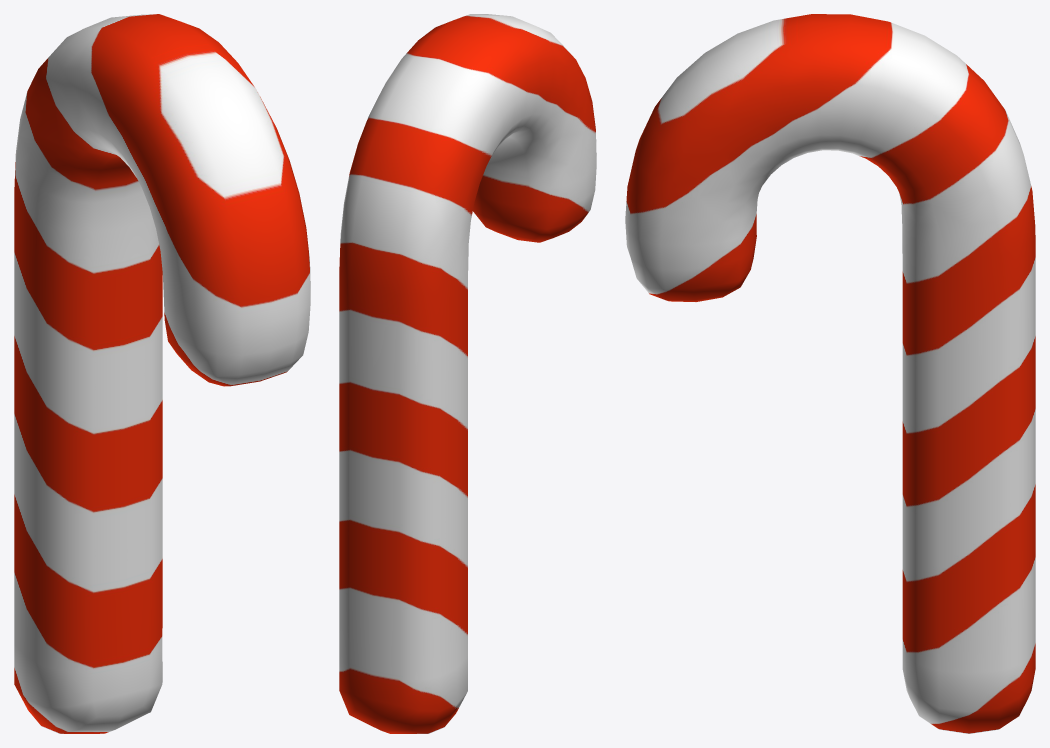
File: Candy_Cane.fbx
3 views of the same model, side by side, from view 1: azimuth 30°, elevation 25°; view 2: azimuth 150°, elevation 25°; view 3: azimuth 270°, elevation 25° (orthographic). The views are drawn at different scales.
Visible parts, largest first — view 1: candycane; view 2: candycane; view 3: candycane.
Boxes of the visible parts, x1,y1,x2,y2 form: candycane: (14,14,310,733); candycane: (339,14,596,733); candycane: (625,14,1035,733).
Size of the model in its own units: 2.12 by 12.29 by 6.53.
Materials: 1 (1 with a texture image).
